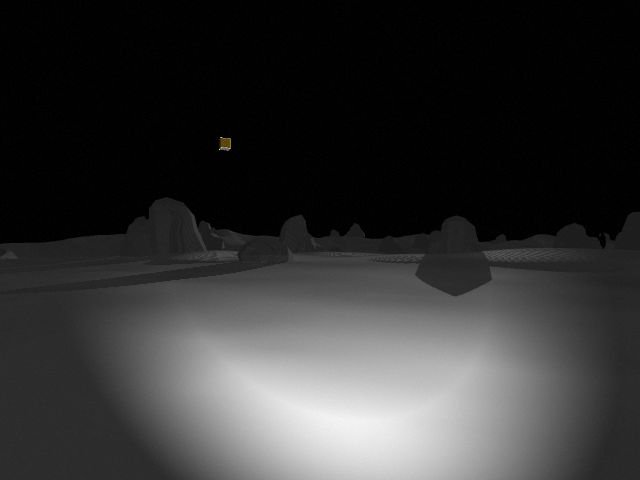cubesat: (215, 134, 236, 153)
